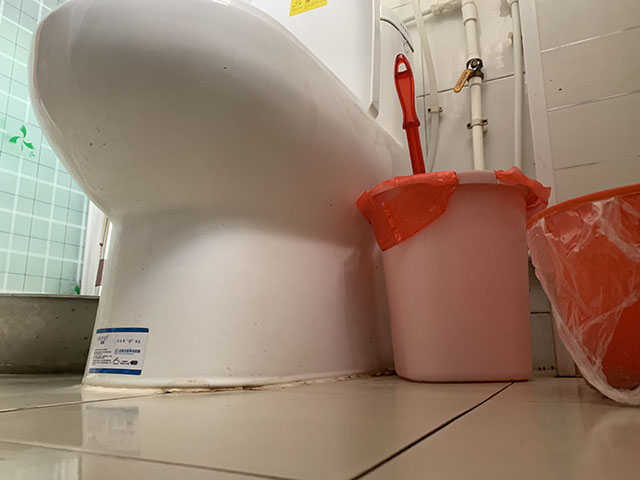closestool: (24, 1, 416, 397)
trashcan: (353, 164, 553, 384), (526, 184, 640, 404)
